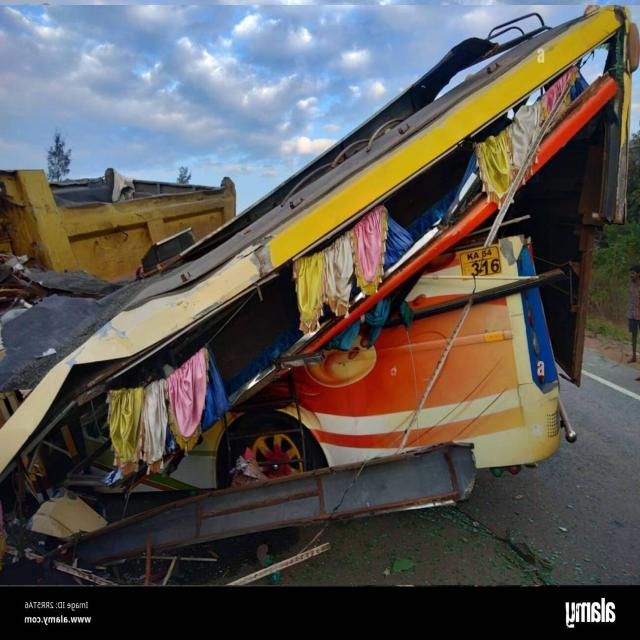accident: (0, 6, 640, 585)
